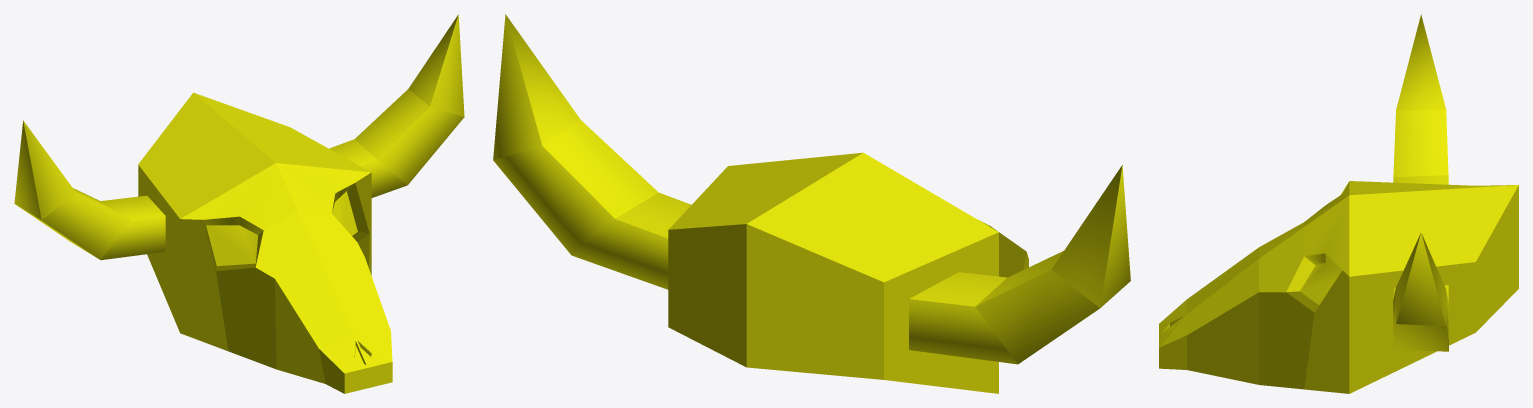
3 renders of one model, left to right at view 1: azimuth 30°, elevation 25°; view 2: azimuth 150°, elevation 25°; view 3: azimuth 270°, elevation 25°, orthographic. The views are drawn at different scales.
Parts seen in each view (by area): view 1: decor_003; view 2: decor_003; view 3: decor_003.
Boxes of the visible parts, <box> form: decor_003: <box>14,14,464,393</box>; decor_003: <box>493,14,1130,393</box>; decor_003: <box>1159,14,1518,393</box>.
Size of the model in its own units: 1.71 by 0.8786 by 1.19.
Materials: 1 (1 with a texture image).
